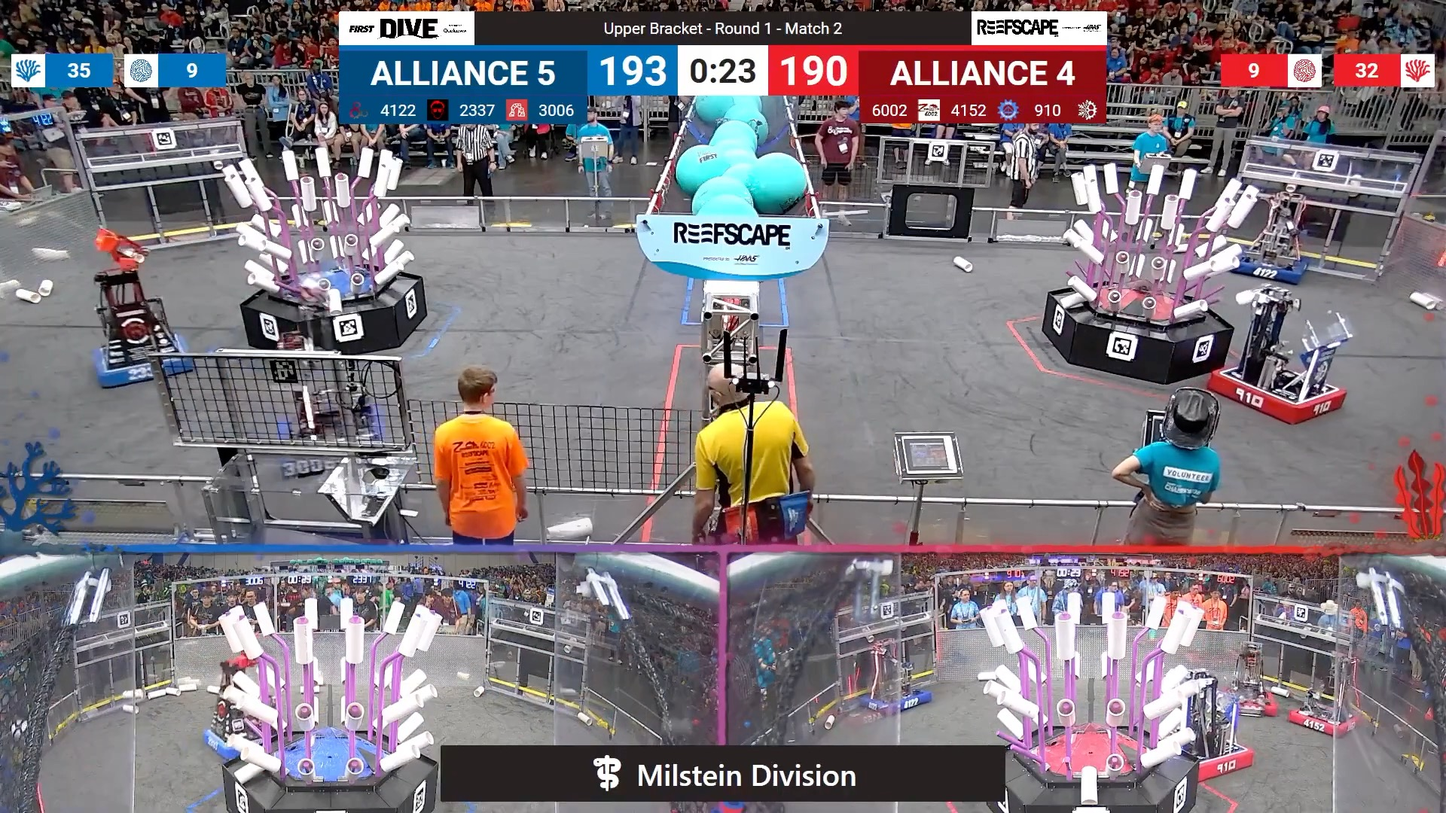bumpers: (271, 402, 401, 478), (1197, 367, 1353, 428), (88, 333, 197, 388), (194, 721, 310, 767), (1172, 738, 1261, 784), (1278, 702, 1365, 738), (1225, 251, 1315, 285), (854, 687, 936, 718), (1222, 687, 1286, 717)
